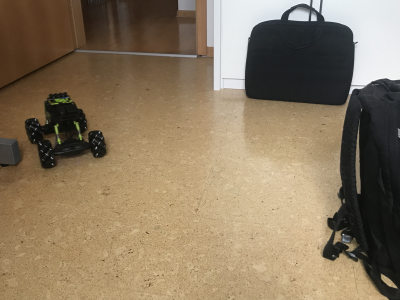remote control car: (23, 86, 108, 170)
